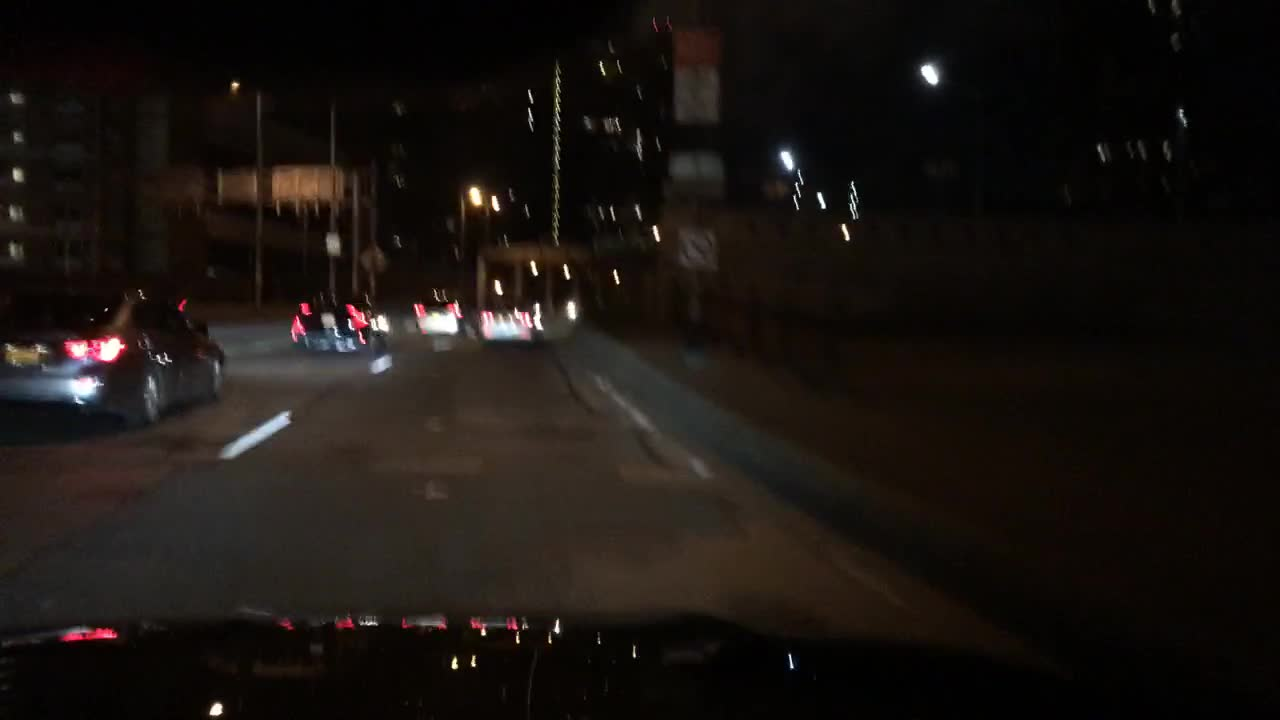car: (0, 274, 226, 429), (290, 288, 388, 354), (480, 290, 542, 345), (407, 285, 464, 336), (336, 435, 345, 436)
